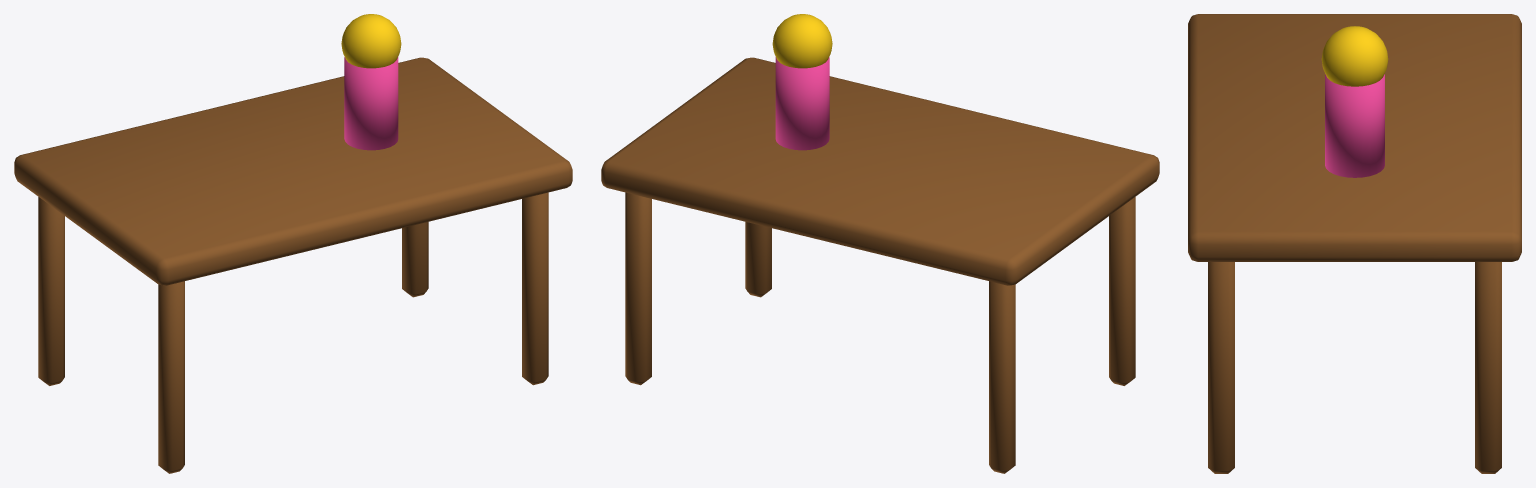
Rendered from table.glb.
3 renders of one model, left to right at view 1: azimuth 30°, elevation 25°; view 2: azimuth 150°, elevation 25°; view 3: azimuth 270°, elevation 25°, orthographic. The views are drawn at different scales.
Visible parts, largest first — view 1: Top, Leg, Leg.002, Leg.001, Vase, Flower, Leg.003; view 2: Top, Leg.001, Leg.003, Leg, Vase, Flower, Leg.002; view 3: Top, Leg.002, Leg.003, Vase, Flower.
Boxes of the visible parts, x1,y1,x2,y2 form: Top: (14, 57, 572, 285); Leg: (158, 281, 184, 473); Leg.002: (522, 192, 548, 385); Leg.001: (38, 197, 64, 385); Vase: (344, 57, 398, 150); Flower: (341, 14, 401, 68); Leg.003: (402, 222, 428, 297); Top: (601, 57, 1159, 285); Leg.001: (989, 281, 1015, 473); Leg.003: (625, 192, 651, 385); Leg: (1109, 197, 1135, 385); Vase: (775, 57, 829, 150); Flower: (772, 14, 832, 68); Leg.002: (745, 222, 771, 297); Top: (1188, 14, 1521, 261); Leg.002: (1208, 262, 1234, 473); Leg.003: (1475, 262, 1501, 473); Vase: (1325, 74, 1384, 177); Flower: (1321, 26, 1388, 86).
Bounding box in the file's own units: 1.6 × 1.27 × 1.
